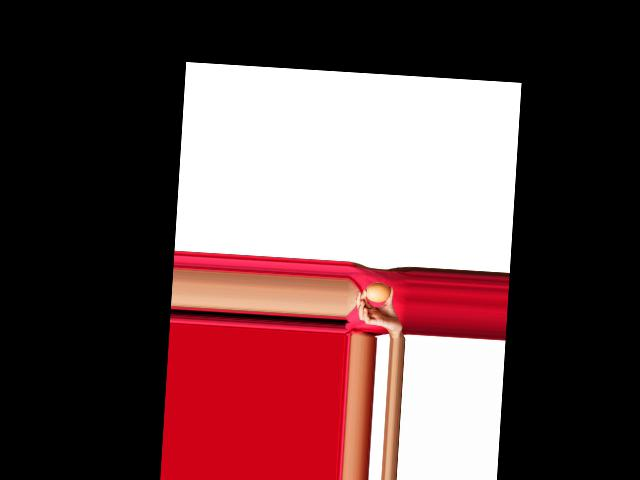egg: (364, 282, 391, 303)
